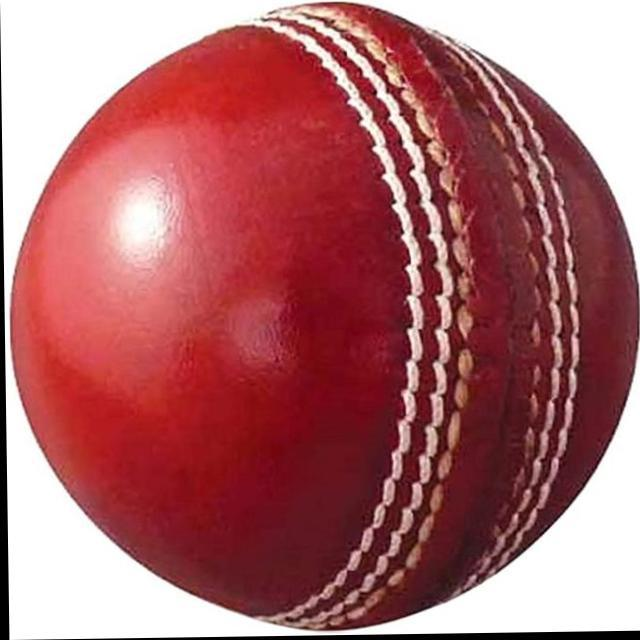cricket ball: (10, 3, 640, 633)
